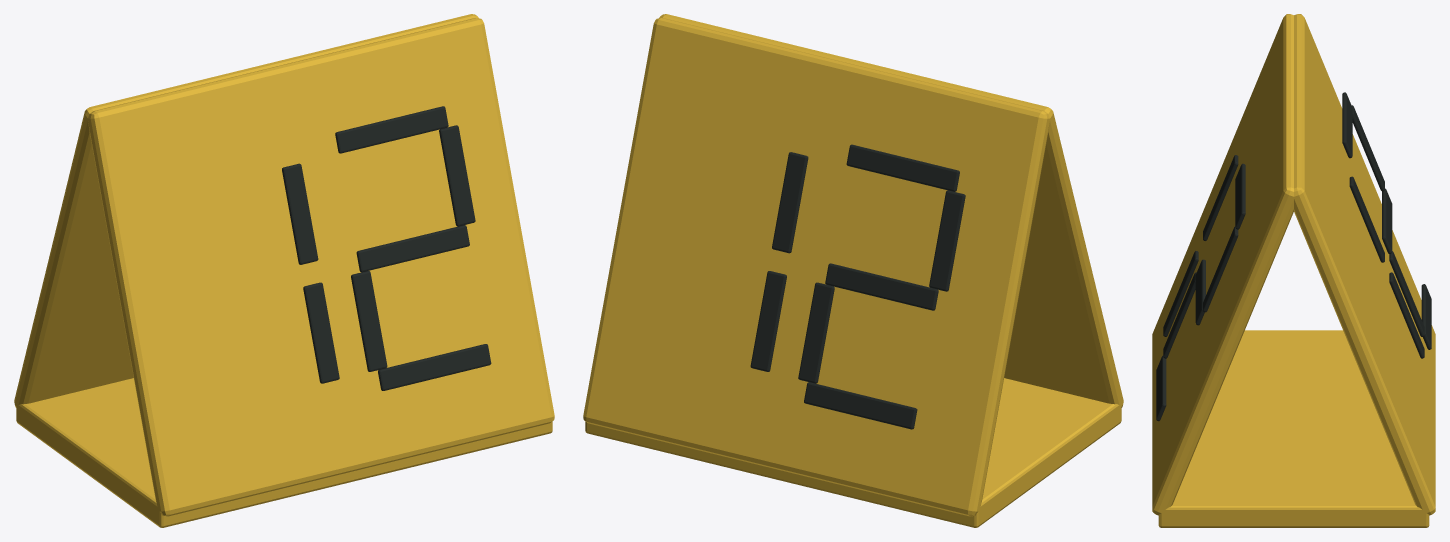
Rendered from hawker-centre-table-number.glb.
3 renders of one model, left to right at view 1: azimuth 30°, elevation 25°; view 2: azimuth 150°, elevation 25°; view 3: azimuth 270°, elevation 25°, orthographic. The views are drawn at different scales.
Visible parts, largest first — view 1: PANEL_Front, PANEL_Back, BASE_Tie, DIGIT_Front_Right_a, DIGIT_Front_Right_d, DIGIT_Front_Right_g, DIGIT_Front_Left_b, DIGIT_Front_Left_c, DIGIT_Front_Right_b, DIGIT_Front_Right_e; view 2: PANEL_Back, PANEL_Front, BASE_Tie, DIGIT_Back_Right_g, DIGIT_Back_Right_d, DIGIT_Back_Right_a, DIGIT_Back_Left_b, DIGIT_Back_Right_b, DIGIT_Back_Right_e, DIGIT_Back_Left_c; view 3: BASE_Tie, PANEL_Back, PANEL_Front, DIGIT_Back_Left_c, DIGIT_Back_Left_b, DIGIT_Front_Left_b, DIGIT_Front_Left_c, DIGIT_Back_Right_e, DIGIT_Front_Right_b, DIGIT_Back_Right_b, DIGIT_Front_Right_e, DIGIT_Back_Right_a (+5 smaller).
Part boxes in pixels (bbox=[...]): PANEL_Front: bbox=[88, 18, 554, 516]; PANEL_Back: bbox=[14, 14, 478, 407]; BASE_Tie: bbox=[16, 378, 552, 527]; DIGIT_Front_Right_a: bbox=[335, 106, 448, 153]; DIGIT_Front_Right_d: bbox=[378, 344, 491, 390]; DIGIT_Front_Right_g: bbox=[356, 225, 469, 272]; DIGIT_Front_Left_b: bbox=[282, 163, 318, 264]; DIGIT_Front_Left_c: bbox=[303, 282, 339, 383]; DIGIT_Front_Right_b: bbox=[439, 125, 475, 226]; DIGIT_Front_Right_e: bbox=[351, 271, 387, 371]; PANEL_Back: bbox=[583, 18, 1049, 516]; PANEL_Front: bbox=[659, 14, 1123, 407]; BASE_Tie: bbox=[585, 378, 1121, 527]; DIGIT_Back_Right_g: bbox=[825, 263, 938, 310]; DIGIT_Back_Right_d: bbox=[804, 382, 917, 429]; DIGIT_Back_Right_a: bbox=[846, 144, 959, 191]; DIGIT_Back_Left_b: bbox=[772, 152, 808, 253]; DIGIT_Back_Right_b: bbox=[929, 190, 965, 291]; DIGIT_Back_Right_e: bbox=[798, 282, 834, 383]; DIGIT_Back_Left_c: bbox=[750, 271, 786, 371]; BASE_Tie: bbox=[1158, 330, 1429, 527]; PANEL_Back: bbox=[1293, 14, 1435, 515]; PANEL_Front: bbox=[1152, 14, 1294, 515]; DIGIT_Back_Left_c: bbox=[1389, 272, 1424, 358]; DIGIT_Back_Left_b: bbox=[1349, 176, 1384, 262]; DIGIT_Front_Left_b: bbox=[1203, 155, 1238, 240]; DIGIT_Front_Left_c: bbox=[1163, 251, 1198, 336]; DIGIT_Back_Right_e: bbox=[1389, 251, 1424, 336]; DIGIT_Front_Right_b: bbox=[1203, 226, 1238, 312]; DIGIT_Back_Right_b: bbox=[1351, 105, 1384, 191]; DIGIT_Front_Right_e: bbox=[1163, 272, 1196, 358]; DIGIT_Back_Right_a: bbox=[1342, 92, 1352, 158].
Size of the model in its own units: 0.14 by 0.1243 by 0.0942.
